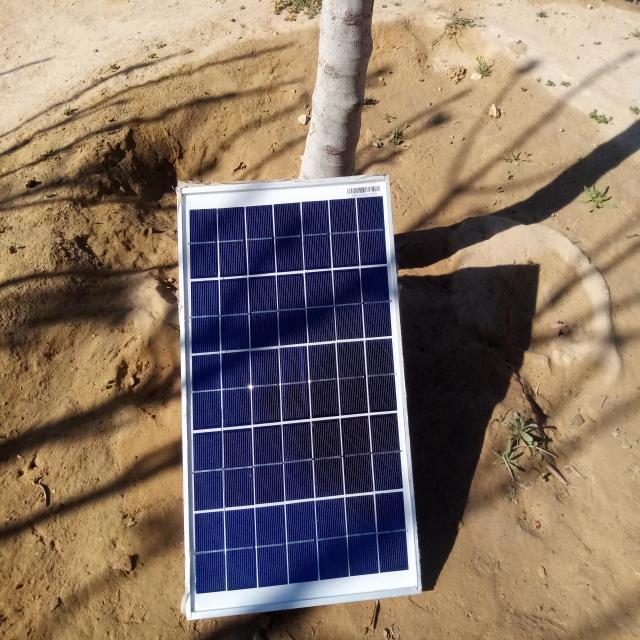Normal Solar Panel: (177, 174, 423, 620)
